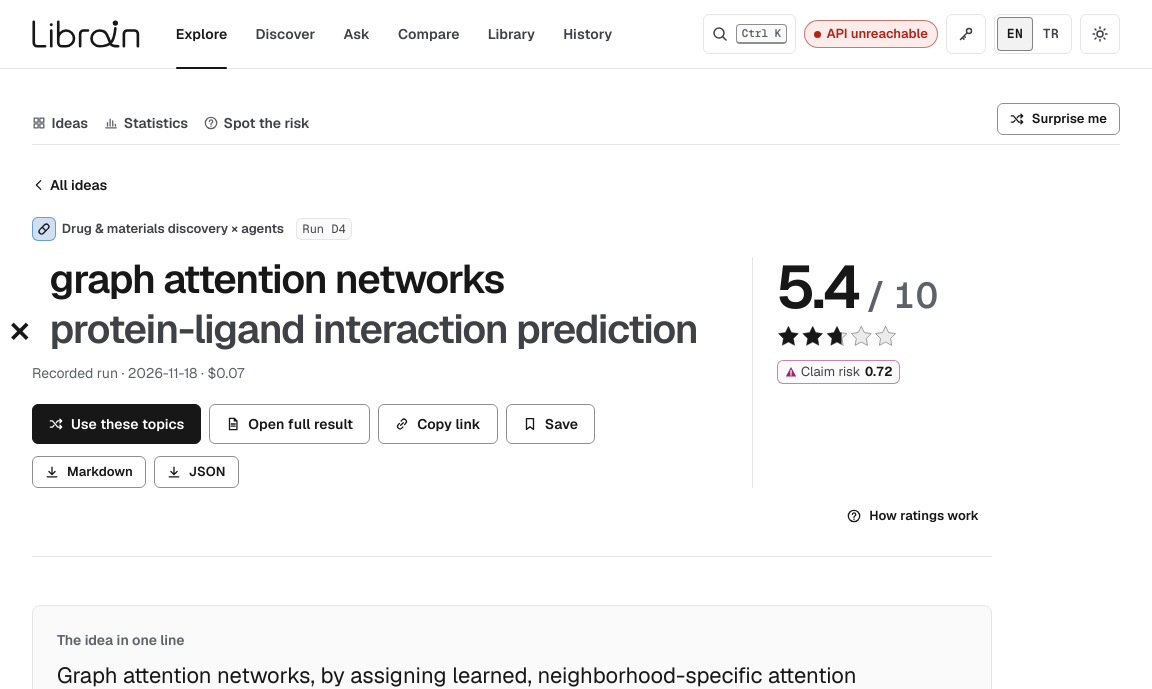
Scenario: Explore makes no API call › in real mode with the API offline: only the header health check touches fetch
Click the link "Open full result": (290, 424) [209, 404, 370, 444]
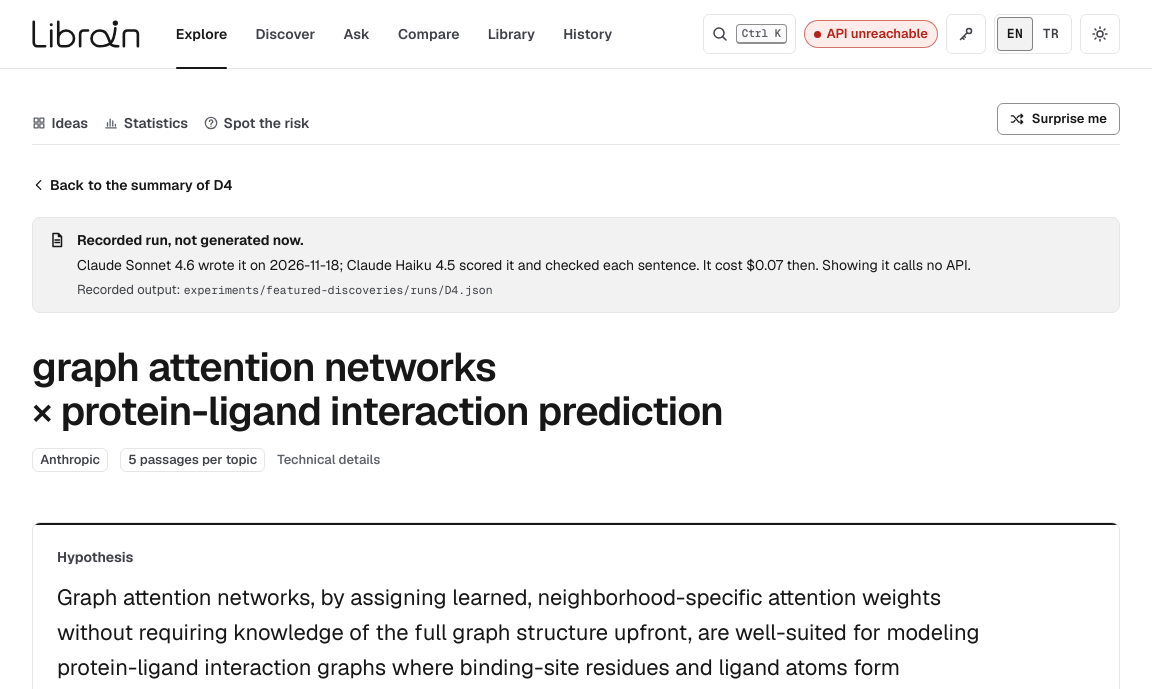
expect the text "API unreachable" is shown: met, box [804, 20, 938, 48]
expect the text "Recorded run, not generated now." is shown: met, box [77, 231, 304, 249]
